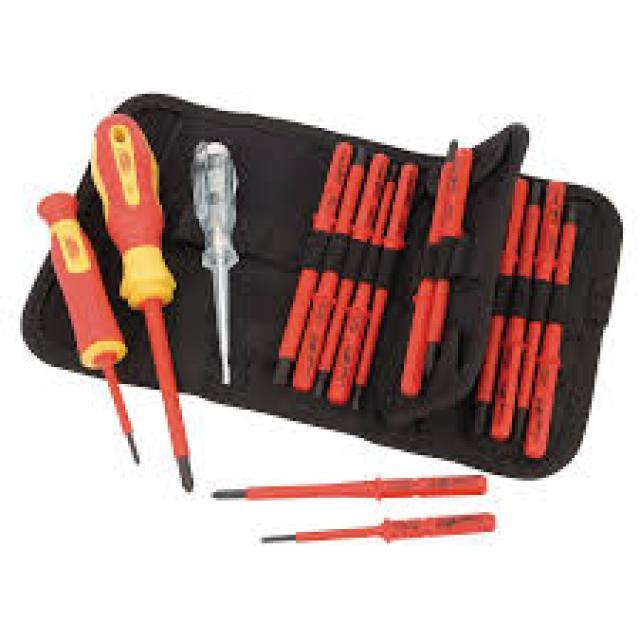screwdriver: (90, 110, 194, 493), (35, 189, 144, 468)
